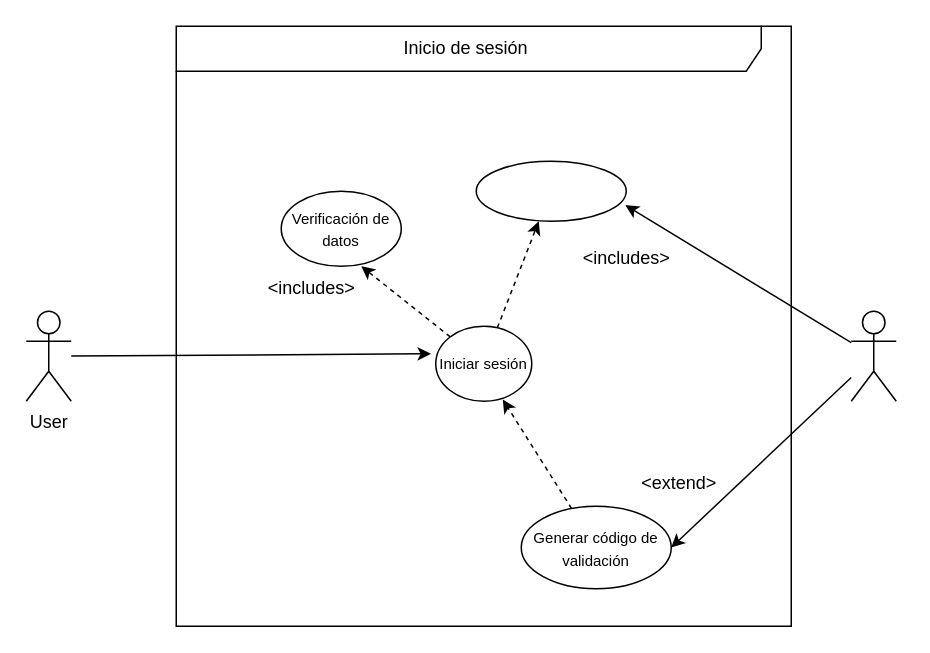
Image size: 930x653. Some labels were removed from this diagram. The centre of each missing label's shape, as x and y in pixels:
System: pixel 873 355
Validación de datos: pixel 550 190
